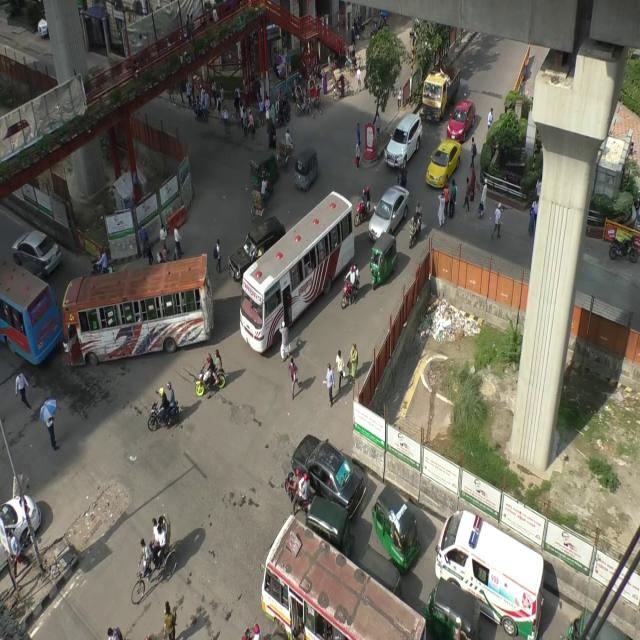cng: (424, 570, 478, 640), (372, 484, 418, 559), (366, 232, 398, 288), (292, 141, 319, 199), (248, 149, 284, 192)
rikshaw: (130, 508, 174, 610), (330, 68, 354, 103), (345, 40, 365, 77), (294, 81, 312, 122), (306, 75, 324, 112)
